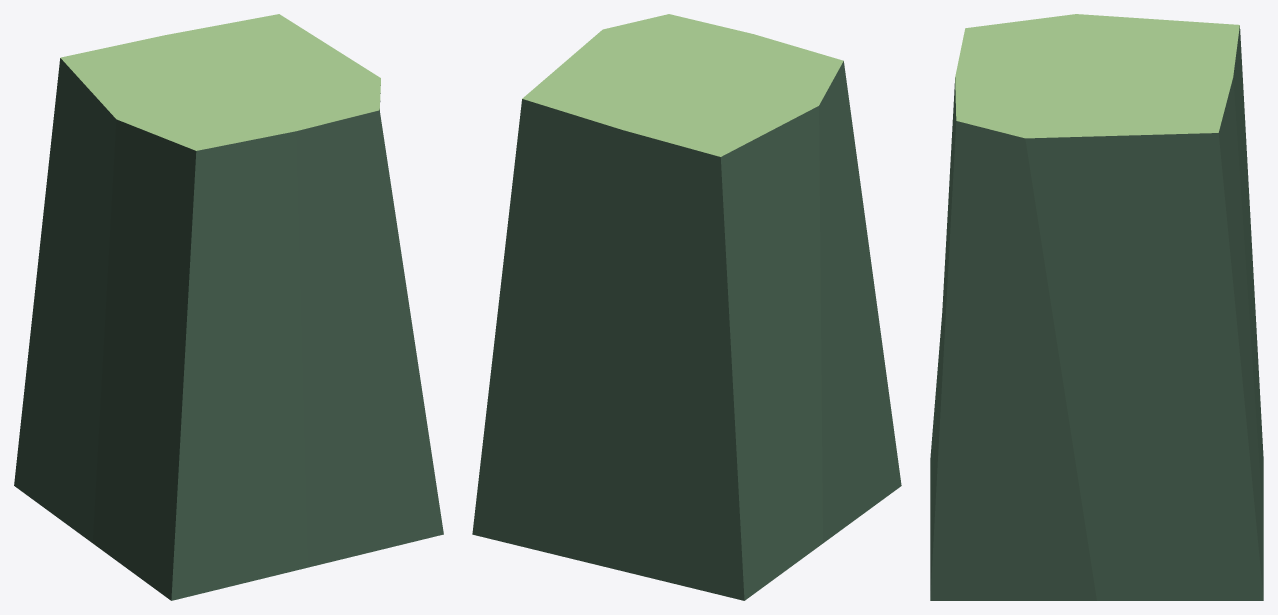
File: Island01.fbx
3 renders of one model, left to right at view 1: azimuth 30°, elevation 25°; view 2: azimuth 150°, elevation 25°; view 3: azimuth 270°, elevation 25°, orthographic. The views are drawn at different scales.
Parts seen in each view (by area): view 1: Plane.002; view 2: Plane.002; view 3: Plane.002.
Part boxes in pixels (<box>): Plane.002: <box>14,14,443,600</box>; Plane.002: <box>472,14,901,600</box>; Plane.002: <box>930,14,1263,600</box>.
Bounding box in the file's own units: 100 × 150 × 100.
